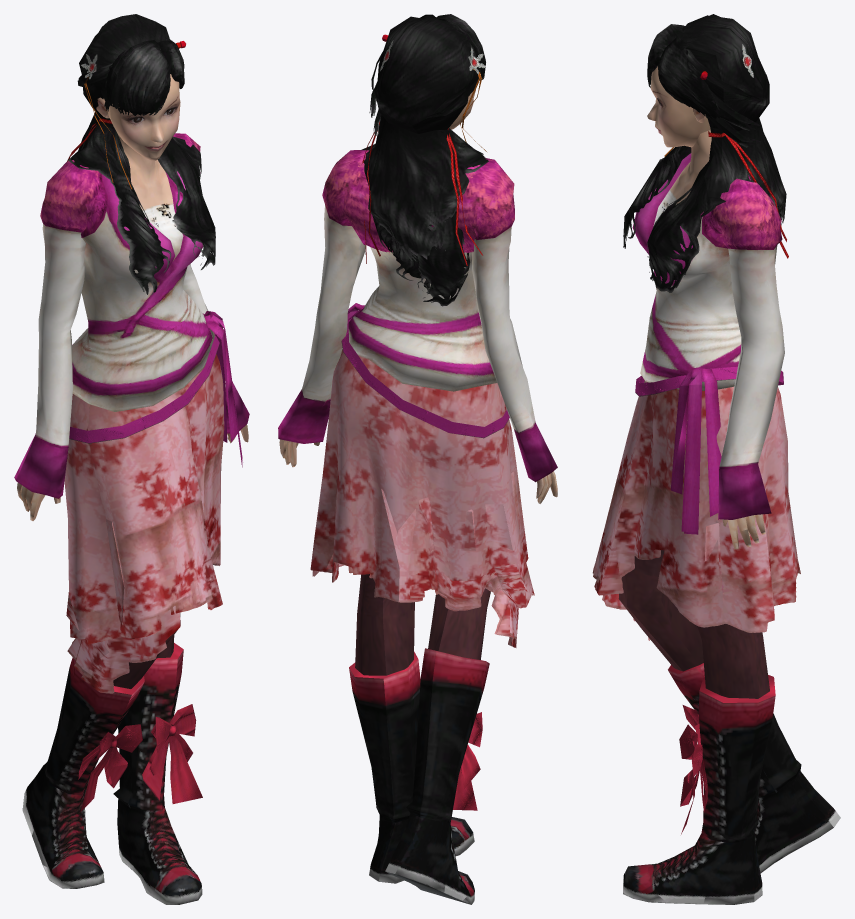
File: girl.obj
The picture shows the model from 3 angles, left to right: view 1: azimuth 30°, elevation 25°; view 2: azimuth 150°, elevation 25°; view 3: azimuth 270°, elevation 25°; orthographic projection.
Parts seen in each view (by area): view 1: 10ae0d0_obj, 51cddd0_obj, 10a6e60_obj; view 2: 10ae0d0_obj, 51cddd0_obj; view 3: 10ae0d0_obj, 51cddd0_obj, 10a6e60_obj.
Part boxes in pixels (x1,y1,x2,y2): 10ae0d0_obj: (14, 133, 249, 904); 51cddd0_obj: (67, 14, 215, 294); 10a6e60_obj: (96, 74, 180, 160); 10ae0d0_obj: (278, 150, 557, 904); 51cddd0_obj: (361, 14, 488, 306); 10ae0d0_obj: (592, 130, 840, 904); 51cddd0_obj: (623, 14, 788, 292); 10a6e60_obj: (647, 66, 710, 147).
Bounding box in the file's own units: 0.5255 × 1.73 × 0.4595.
